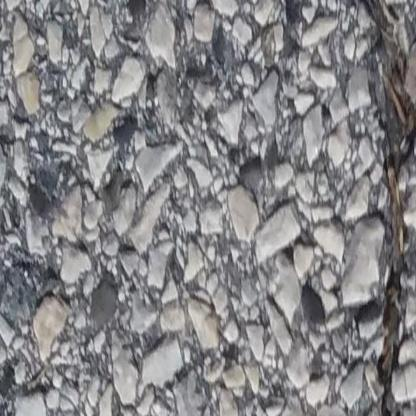Cracks: (359, 0, 416, 416)
